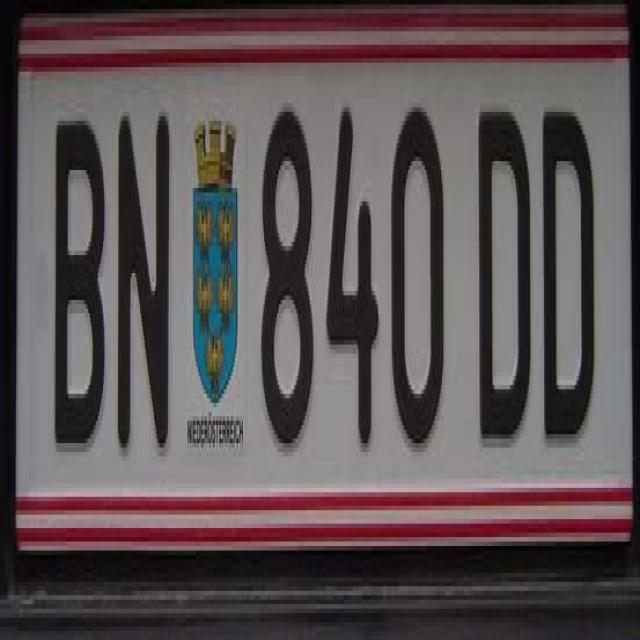Autre: (20, 14, 630, 541)
